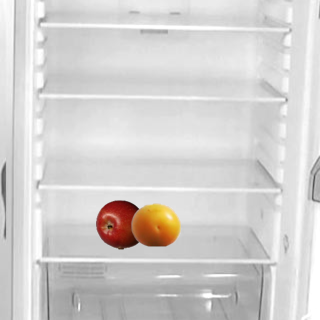Apple Braeburn: (95, 199, 145, 249)
Cherry Wax Yellow: (130, 199, 180, 249)
